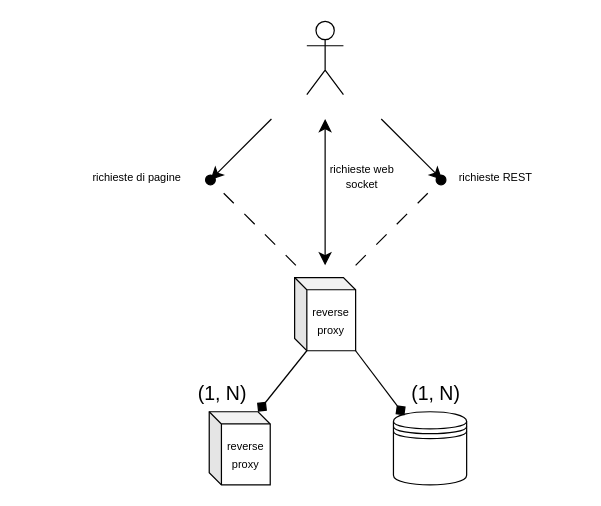
This 601x506 diagram has some shape labels left out. The centre of each missing label's shape, as x and y in pixels:
"DBMS" belongs at (429,448).
"User Browser" belongs at (324,57).
